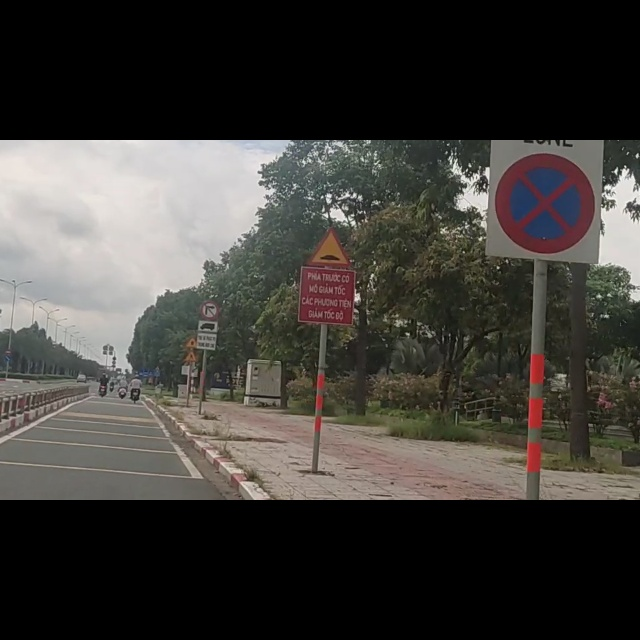bien_cam: (308, 153, 352, 226), (196, 321, 219, 375), (199, 286, 219, 321)
